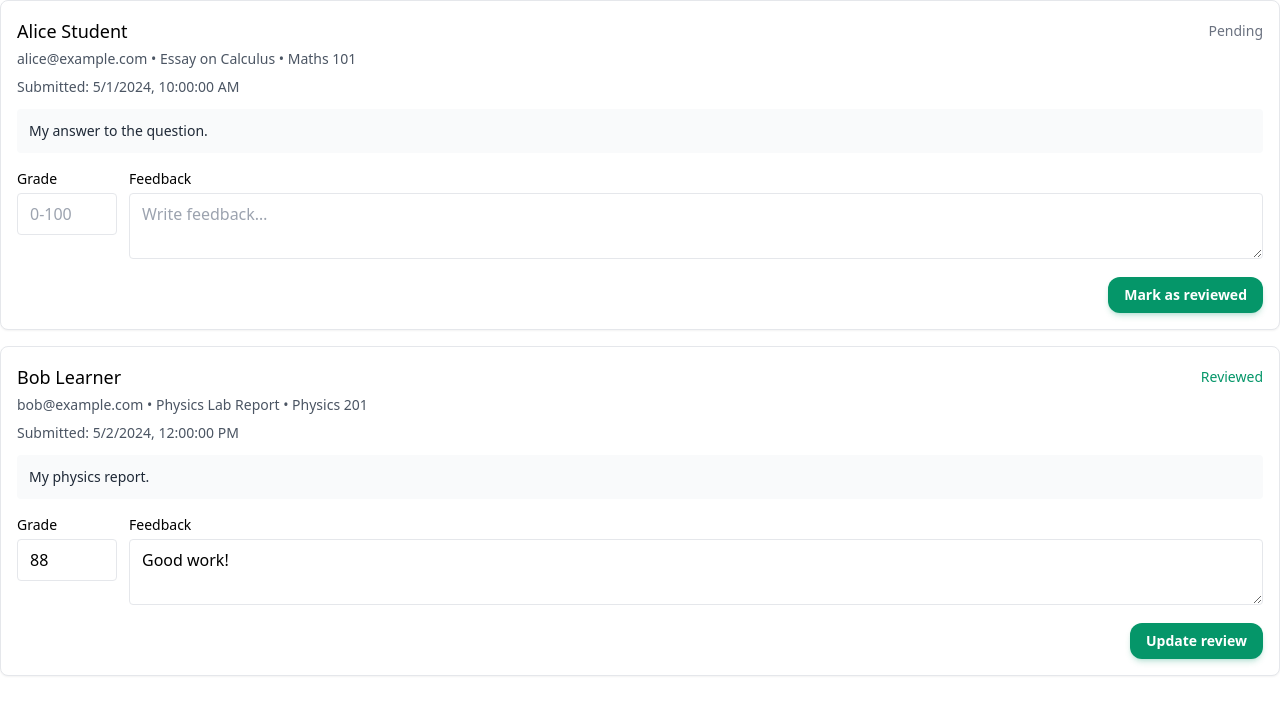
SubmissionReviewList › shows "Saved!" after a successful review submission (FR9)
Check: the heading "Alice Student" is shown, box [17, 17, 128, 45]
Click the button "Mark as reviewed".
click(1186, 295)  # box [1108, 277, 1263, 313]
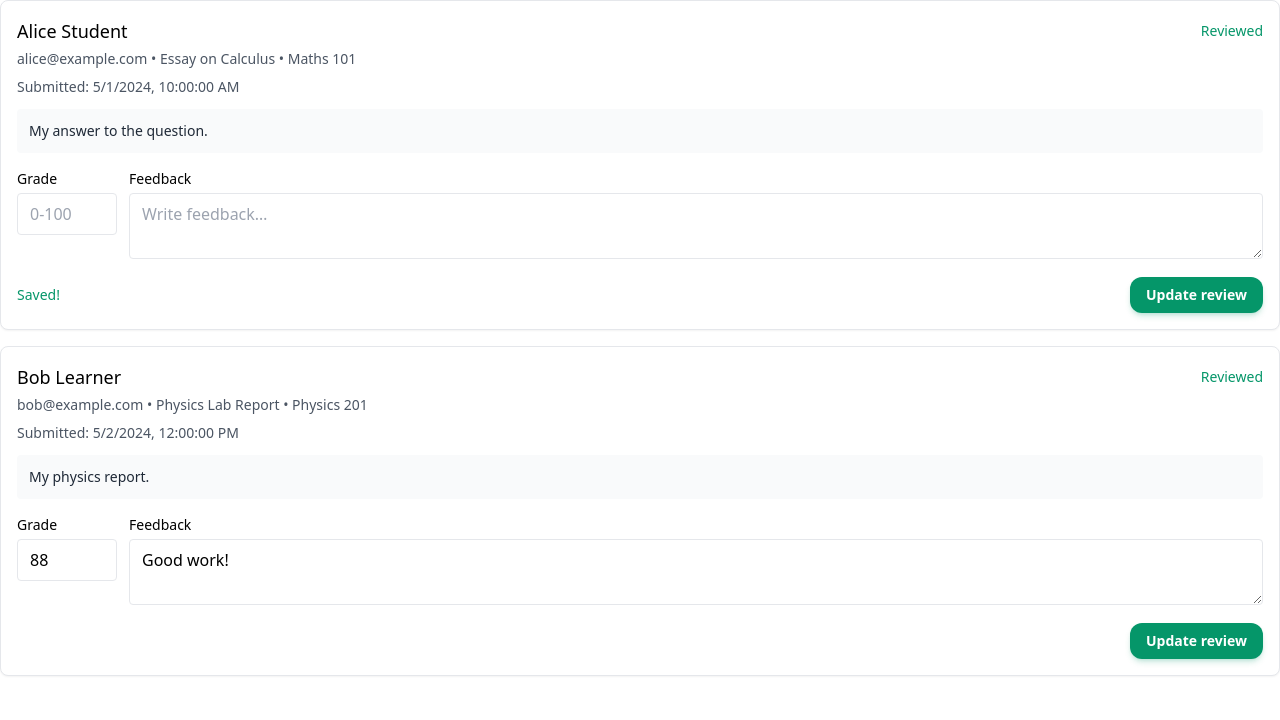
Check: the text "Saved!" is shown, box [17, 285, 60, 305]
